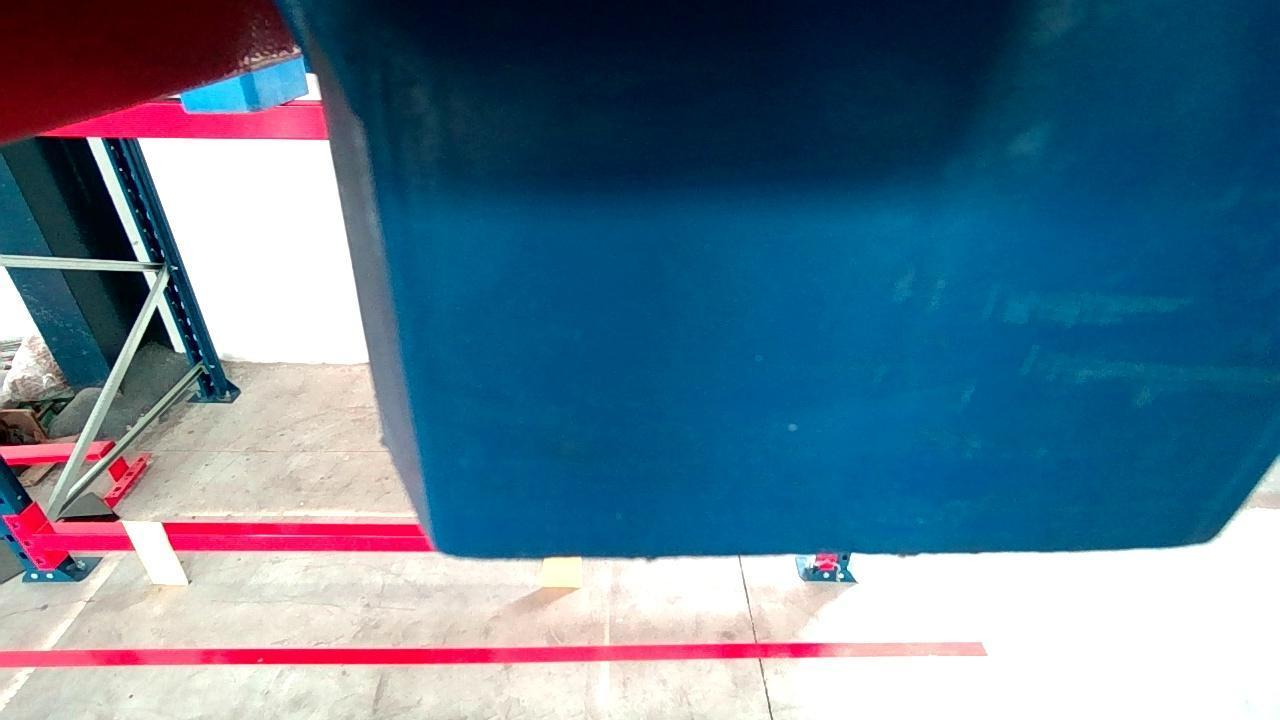h_rack: (35, 531, 436, 553)
orange_strip: (120, 521, 189, 583), (541, 555, 580, 585)
red_line: (0, 641, 984, 667)
